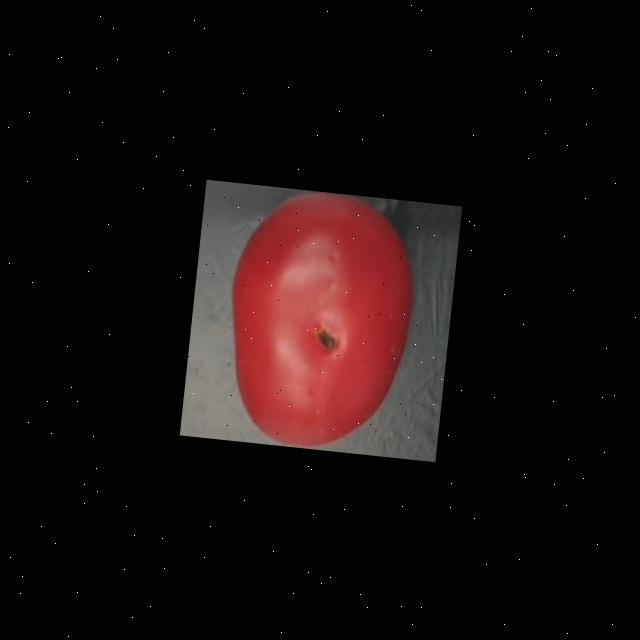tomato: (213, 185, 426, 456)
